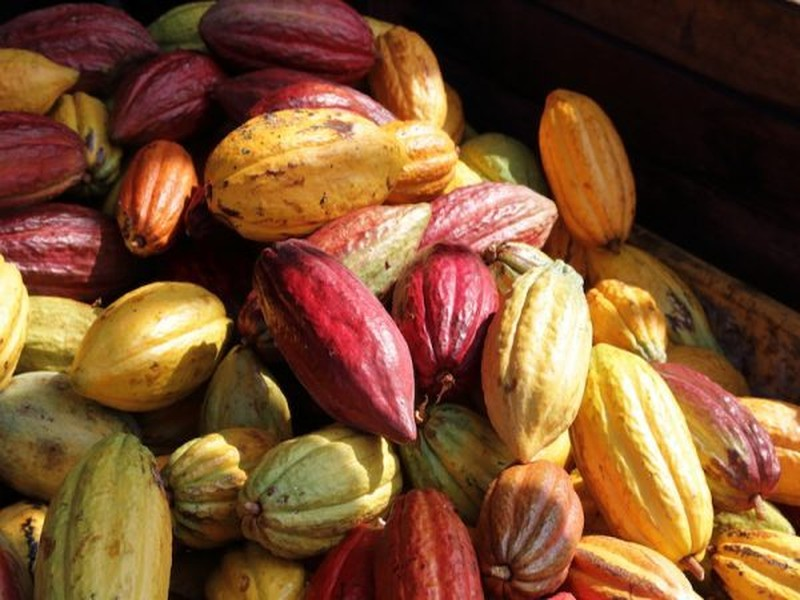Cacaopod: (253, 238, 424, 443), (480, 259, 589, 462)
